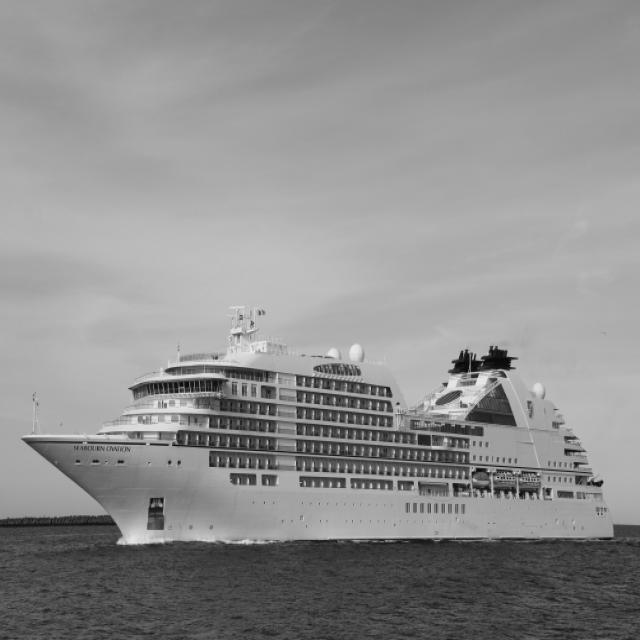cruises: (18, 303, 619, 549)
